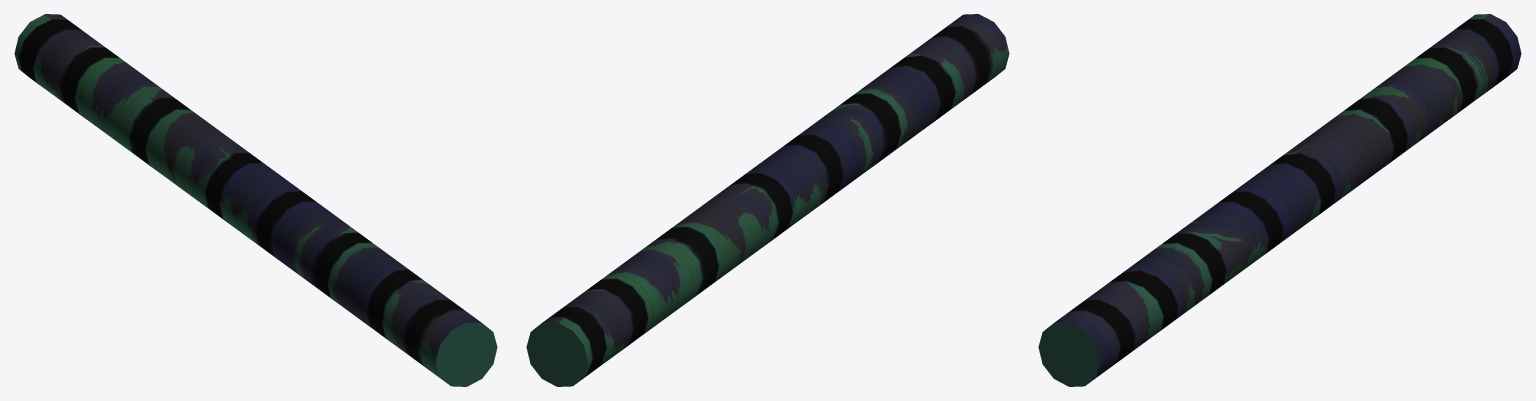
Rendered from straightwire.fbx.
3 views of the same model, side by side, from view 1: azimuth 30°, elevation 25°; view 2: azimuth 150°, elevation 25°; view 3: azimuth 330°, elevation 25° (orthographic).
Parts seen in each view (by area): view 1: straightwire; view 2: straightwire; view 3: straightwire.
Boxes of the visible parts, box(x1,y1,x2,y2) form: straightwire: box(14, 14, 497, 386); straightwire: box(526, 14, 1009, 386); straightwire: box(1038, 14, 1521, 386).
Bounding box in the file's own units: 10.12 × 10.12 × 120.
1 material, 1 textured.
